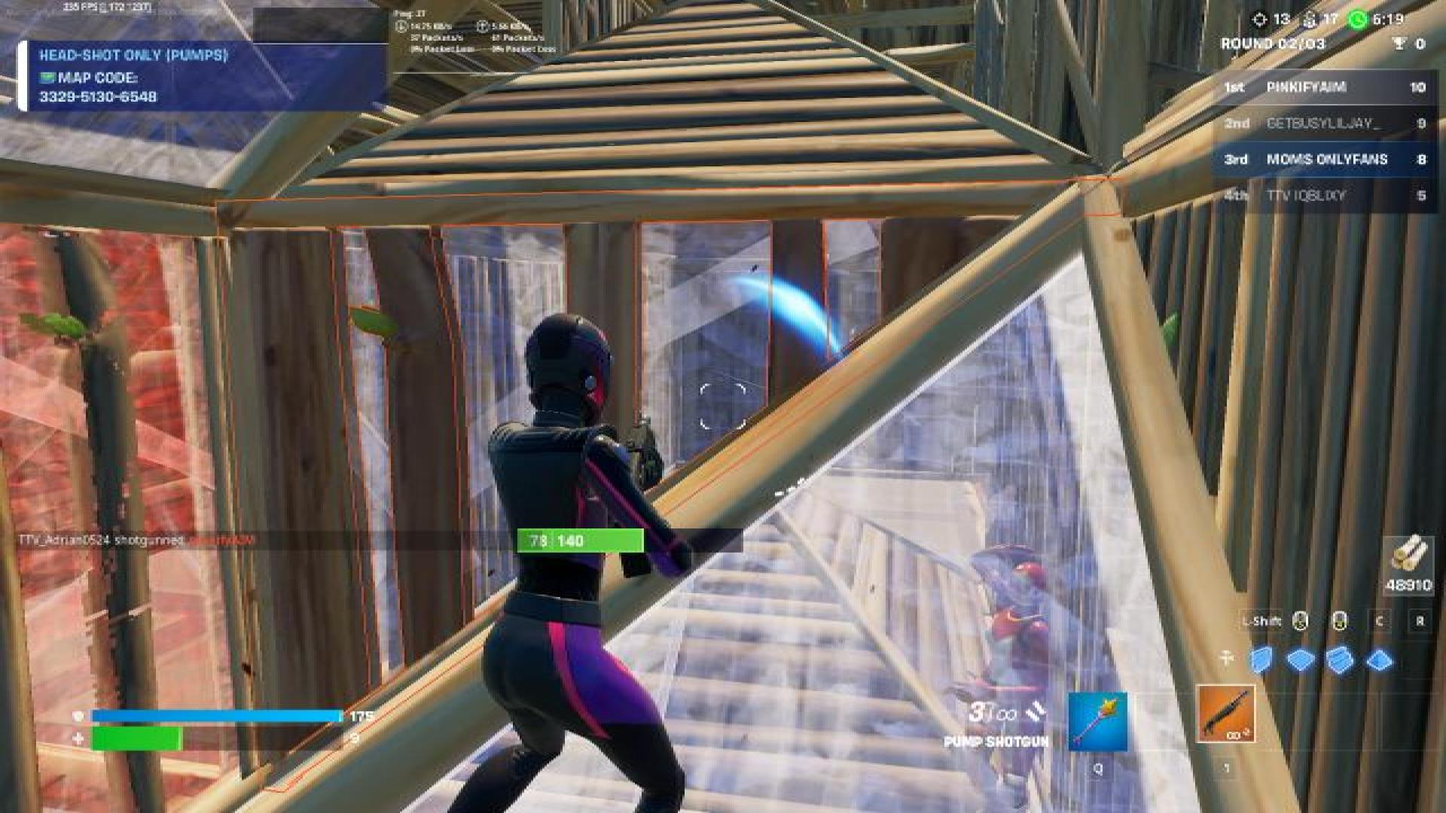player: (961, 553, 1070, 812)
